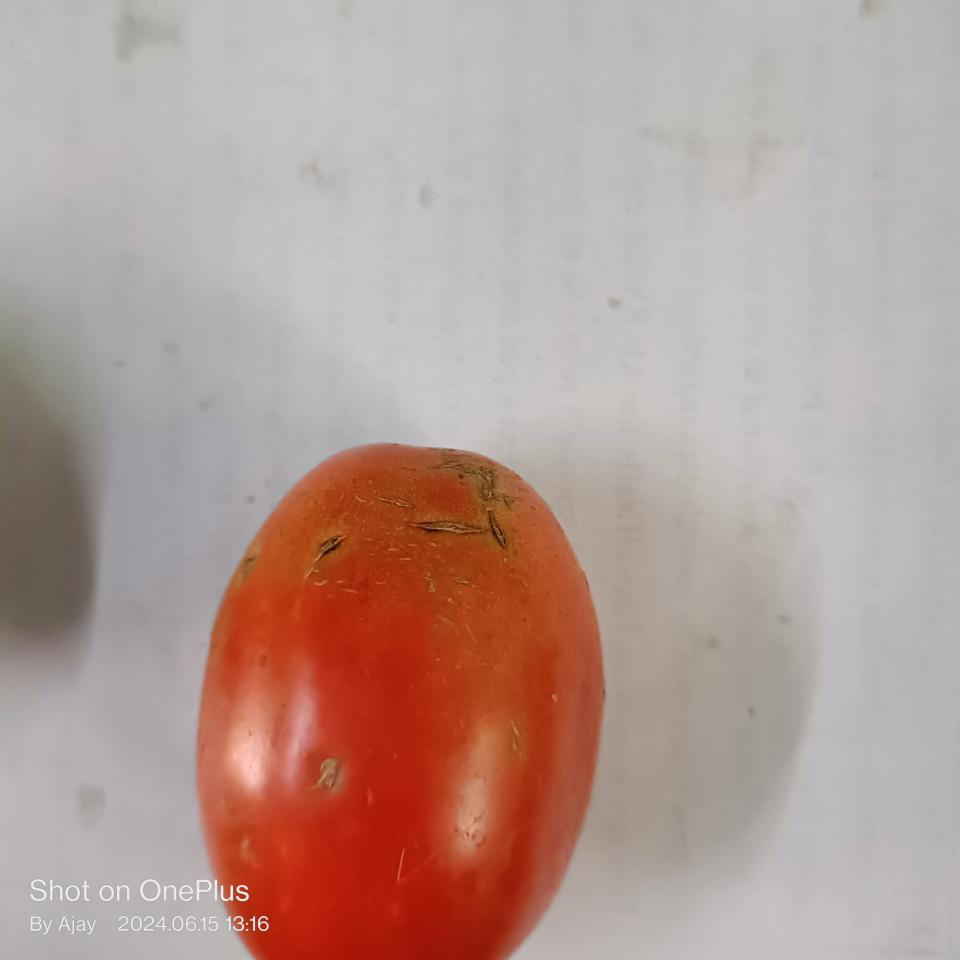Bacterial_Spot: (406, 513, 514, 544), (312, 753, 344, 790), (312, 528, 350, 558)
